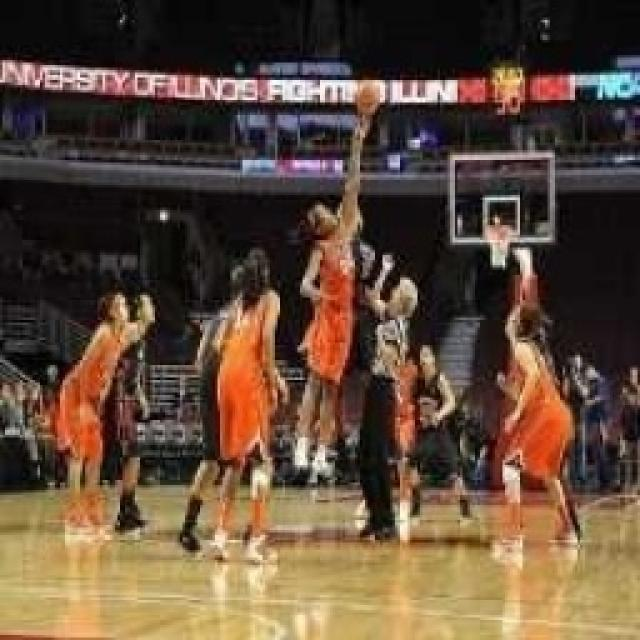basketball: (354, 78, 380, 112)
